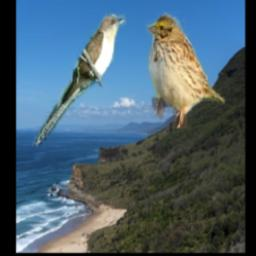Cuckoo: (32, 12, 127, 150)
Sparrow: (144, 11, 225, 129)
